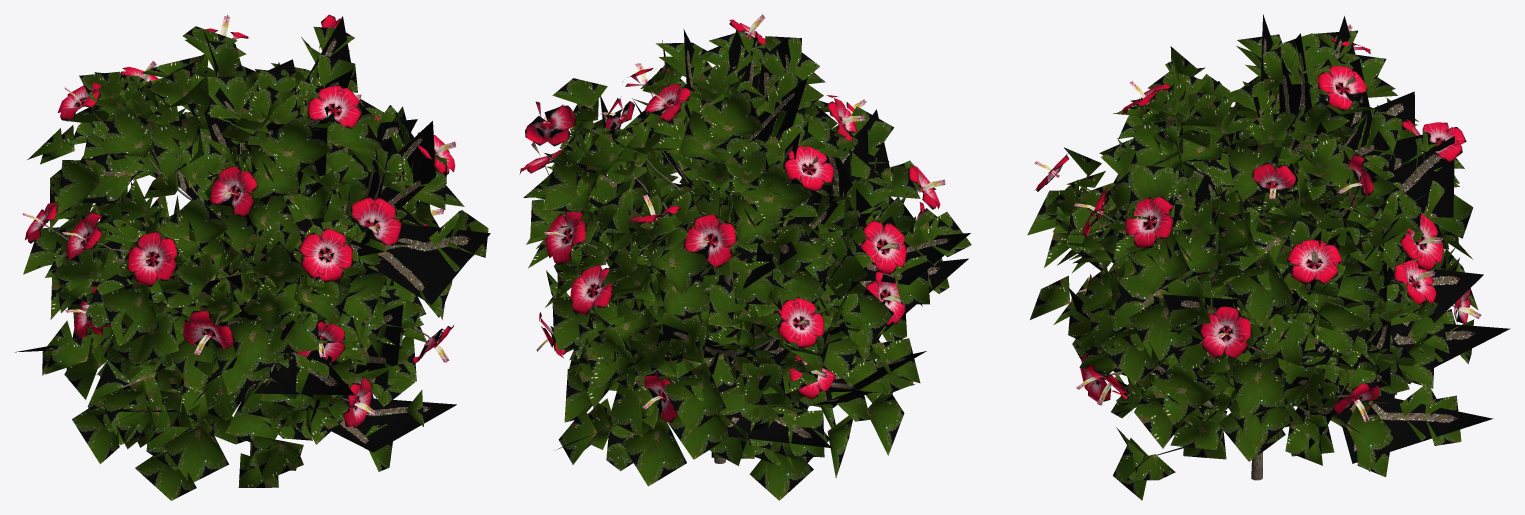
The model's file is SM_pal_b06_bush_hibiscus_01_137de6.glb.
3 views of the same model, side by side, from view 1: azimuth 30°, elevation 25°; view 2: azimuth 150°, elevation 25°; view 3: azimuth 270°, elevation 25° (orthographic). The views are drawn at different scales.
Size of the model in its own units: 1.58 by 1.64 by 1.75.
2 materials, 2 textured.
